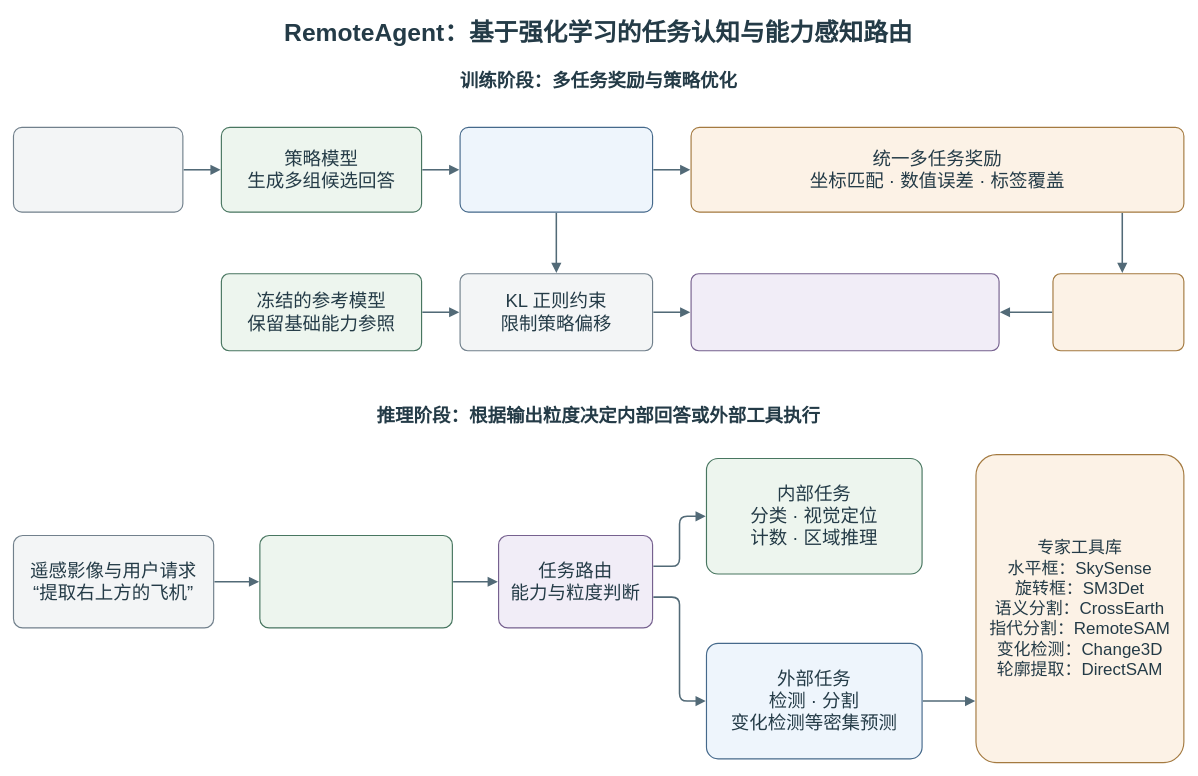
Image size: 1198x776. Some labels were removed from this diagram. Here are the shapes that lost their labels. From the top down, the centre of each, then its label:
At (98,169): "遥感影像 模糊自然语言请求".
At (556,169): "结构化输出 坐标 · 数值 · 文本".
At (844,312): "组相对策略优化（GRPO） 优化输出的功能正确性".
At (1118,312): "组内标准化 相对优势".
At (356,581): "RemoteAgent 理解意图并规划任务".
